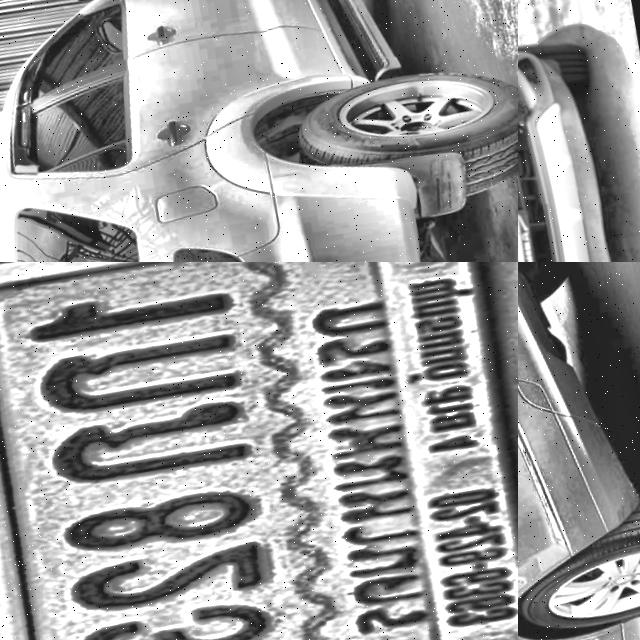license-plate: (0, 262, 518, 640), (518, 200, 550, 262)
